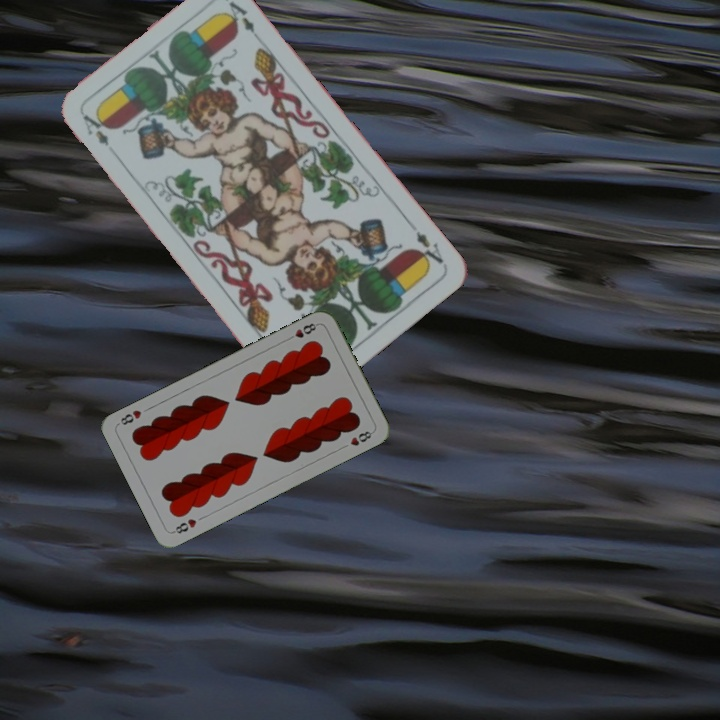EA: (411, 227, 447, 271), (78, 110, 112, 149)
H8: (283, 319, 321, 343), (169, 515, 199, 536)
